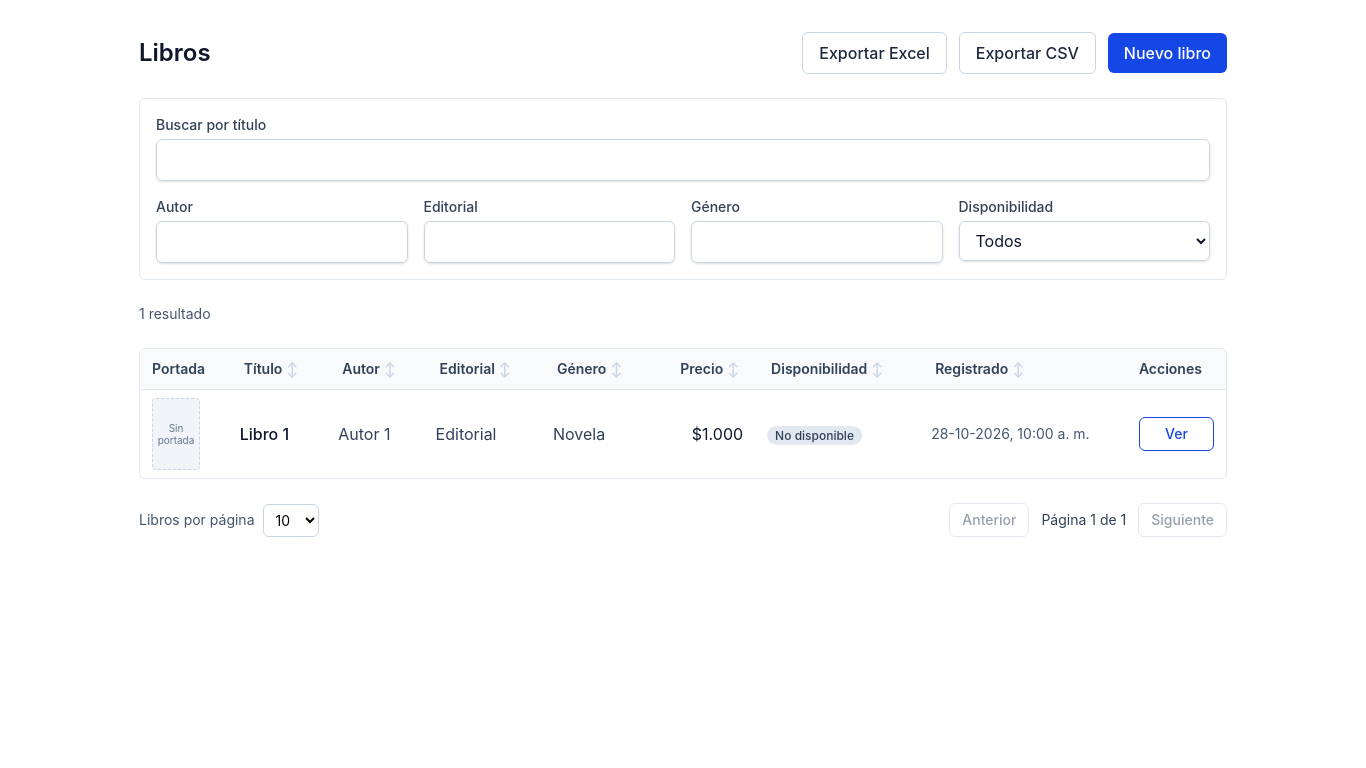
Test case: BooksPage › export to Excel › names the CSV in the notice when the CSV failed
Expected: the text "1 resultado" is shown, left=139, top=304, right=211, bottom=324
Click the button "Exportar CSV". click: (1027, 53)
box: left=959, top=32, right=1096, bottom=74
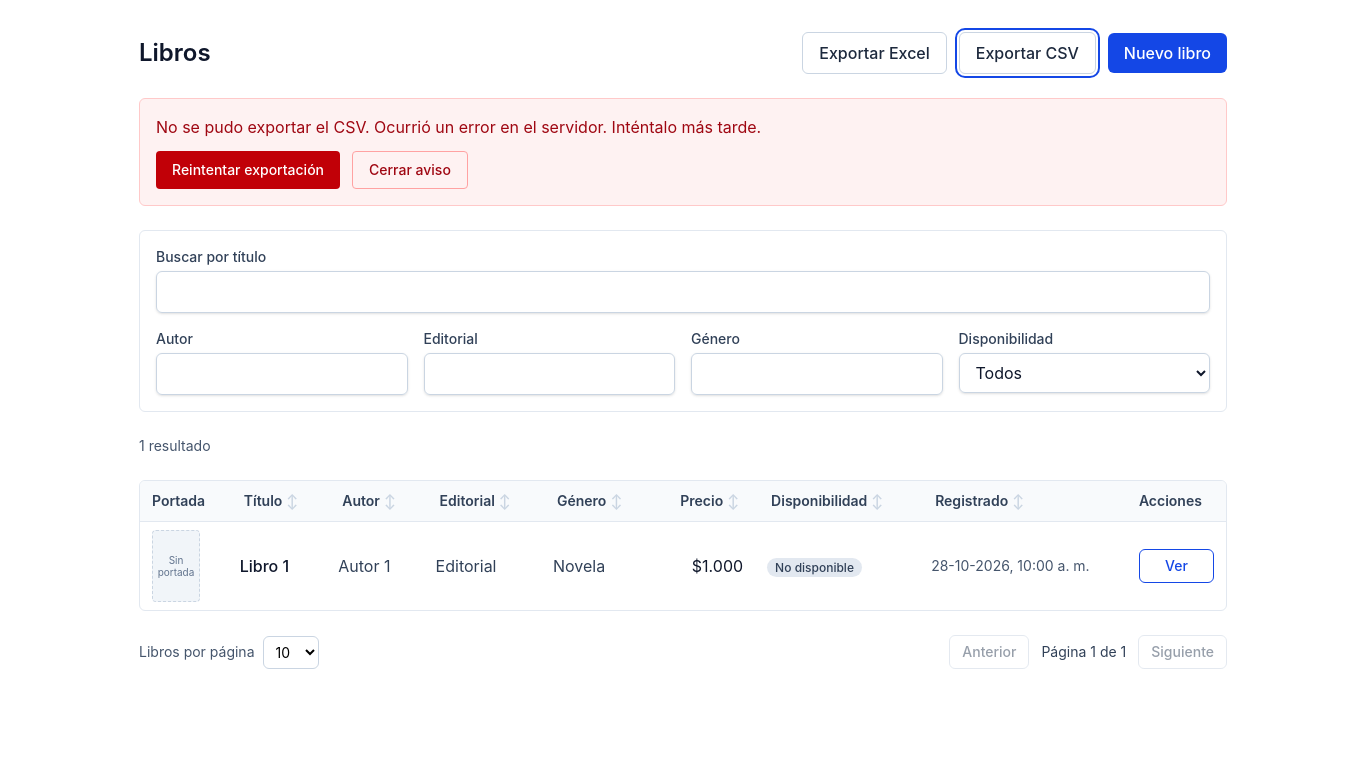
Result: the message that starts with "No se pudo exportar el" shows "No se pudo exportar el CSV." at left=139, top=98, right=1227, bottom=206
